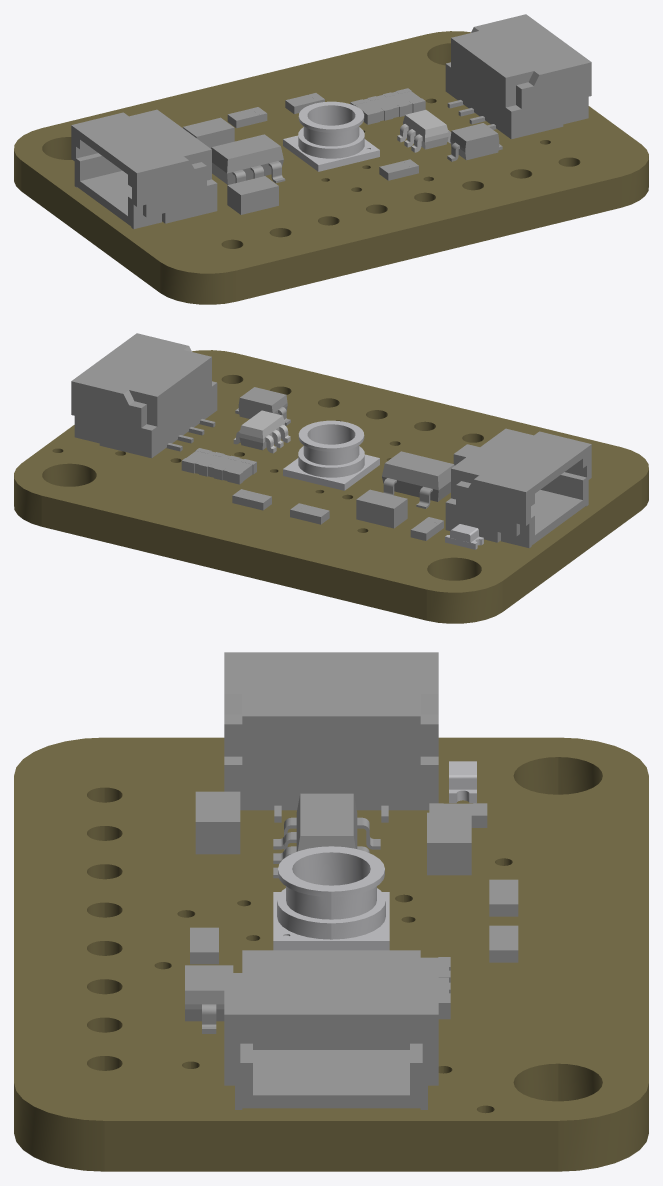
Rendered from ada-6413.glb.
The picture shows the model from 3 angles, top to bottom: view 1: azimuth 30°, elevation 25°; view 2: azimuth 150°, elevation 25°; view 3: azimuth 270°, elevation 25°; orthographic projection. The views are drawn at different scales.
Parts seen in each view (by area): view 1: 0.16666666666666666_0.16666666666666666_0.08333333333333333_, 0.3333333333333333_0.3333333333333333_0.3333333333333333_0, 0.5833333333333334_0.5833333333333334_0.5833333333333334_0.8, 0.5_0.5_0.5_0.85; view 2: 0.16666666666666666_0.16666666666666666_0.08333333333333333_, 0.3333333333333333_0.3333333333333333_0.3333333333333333_0, 0.5833333333333334_0.5833333333333334_0.5833333333333334_0.8, 0.5_0.5_0.5_0.85; view 3: 0.16666666666666666_0.16666666666666666_0.08333333333333333_, 0.3333333333333333_0.3333333333333333_0.3333333333333333_0, 0.5833333333333334_0.5833333333333334_0.5833333333333334_0.8.
Boxes of the visible parts, x1,y1,x2,y2 form: 0.16666666666666666_0.16666666666666666_0.08333333333333333_: (14, 31, 648, 304); 0.3333333333333333_0.3333333333333333_0.3333333333333333_0: (71, 14, 591, 229); 0.5833333333333334_0.5833333333333334_0.5833333333333334_0.8: (283, 101, 379, 171); 0.5_0.5_0.5_0.85: (397, 110, 451, 152); 0.16666666666666666_0.16666666666666666_0.08333333333333333_: (14, 350, 648, 623); 0.3333333333333333_0.3333333333333333_0.3333333333333333_0: (71, 333, 591, 548); 0.5833333333333334_0.5833333333333334_0.5833333333333334_0.8: (283, 420, 483, 549); 0.5_0.5_0.5_0.85: (233, 410, 290, 453); 0.16666666666666666_0.16666666666666666_0.08333333333333333_: (14, 737, 648, 1171); 0.3333333333333333_0.3333333333333333_0.3333333333333333_0: (185, 652, 518, 1109); 0.5833333333333334_0.5833333333333334_0.5833333333333334_0.8: (273, 761, 476, 950).
Size of the model in its own units: 2.54 by 0.4529 by 1.78.
